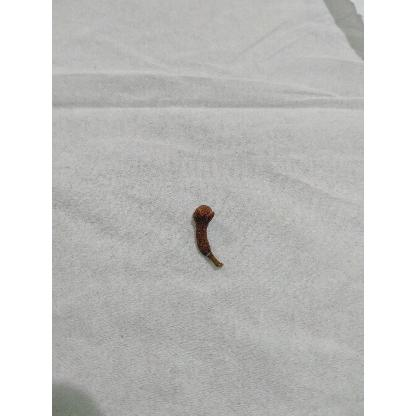sedang: (193, 204, 215, 256)
